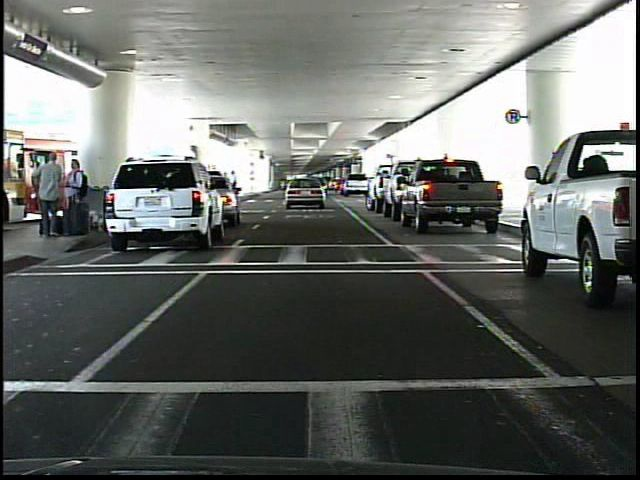person: (35, 152, 66, 240), (63, 156, 90, 240)
